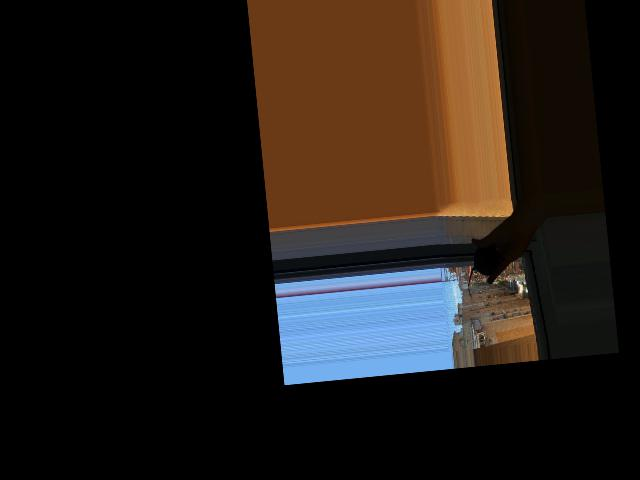beet: (464, 246, 503, 299)
